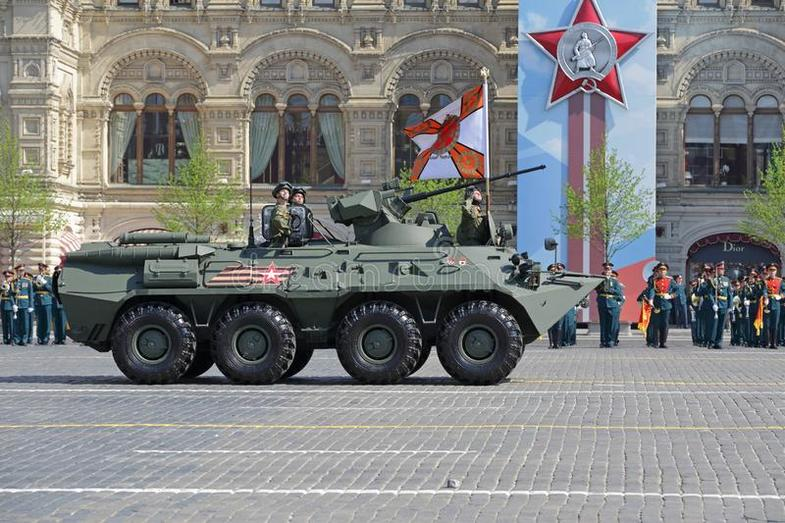btr: (54, 214, 592, 373)
